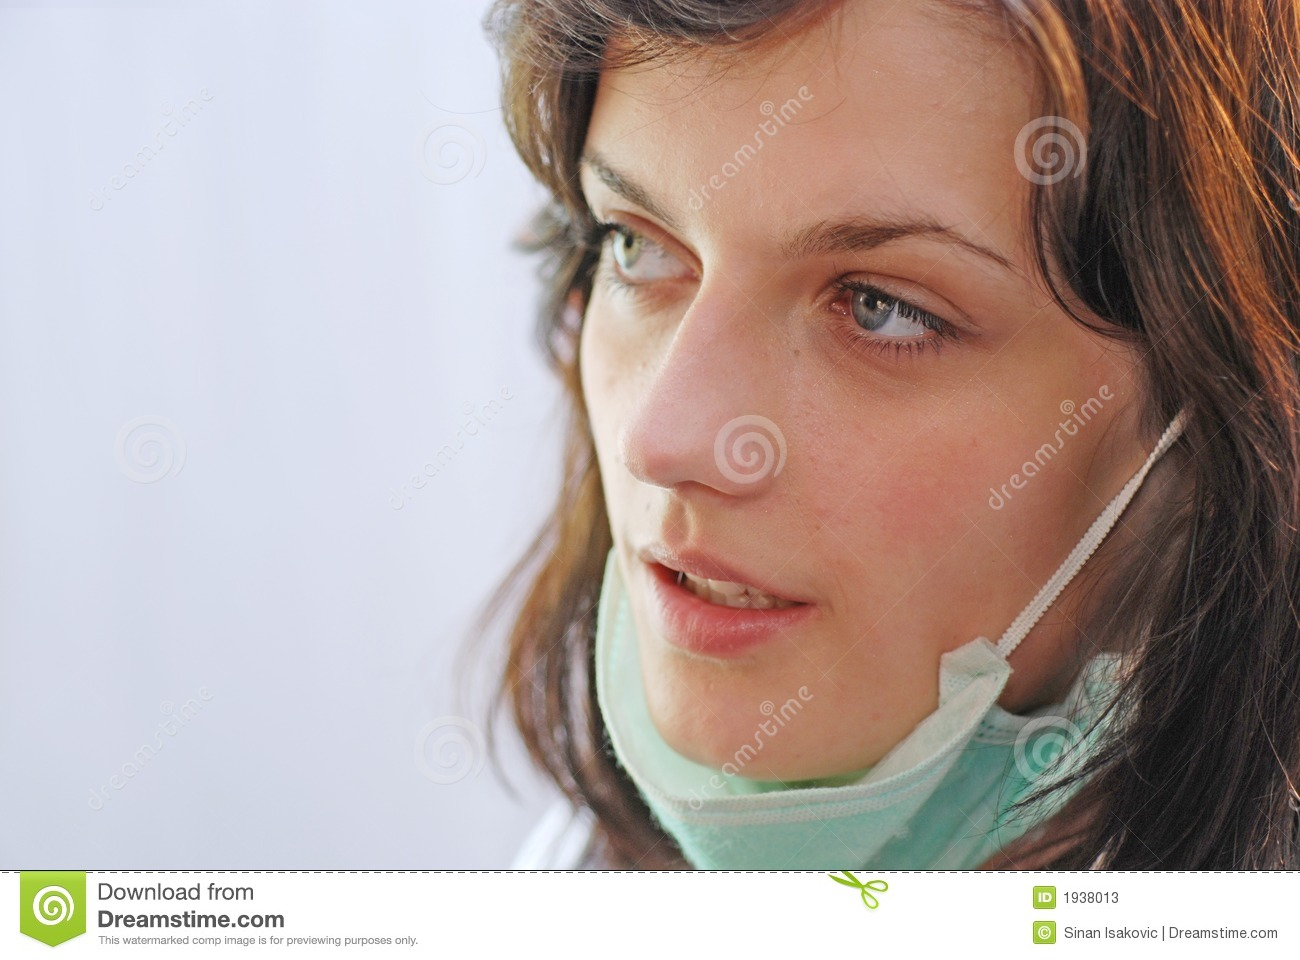mask_weared_incorrect: (586, 183, 1074, 838)
